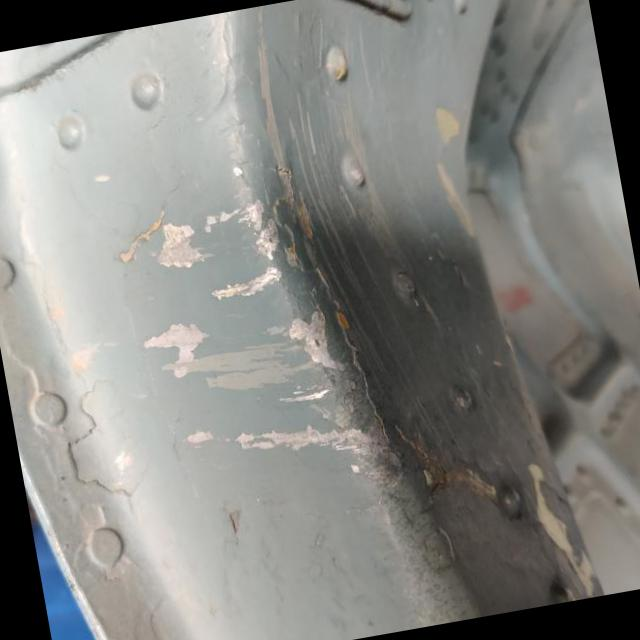Paint-off: (125, 213, 335, 416)
